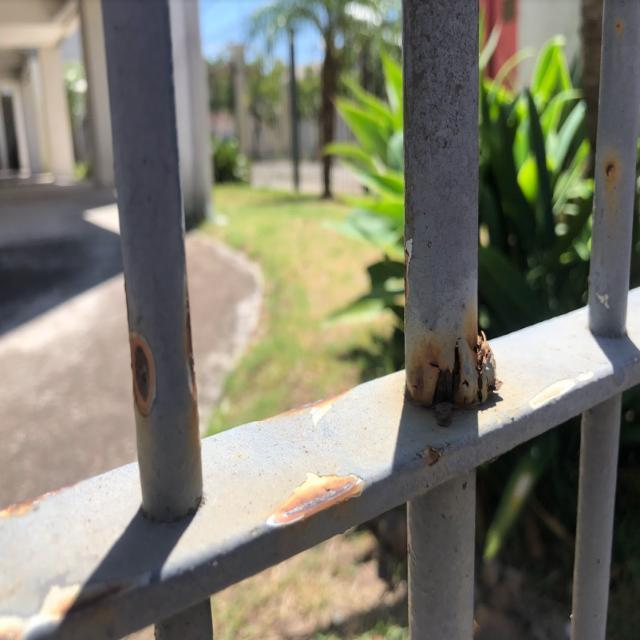Corrosion: (407, 313, 498, 421), (263, 475, 367, 526), (0, 481, 84, 520), (56, 587, 129, 626), (131, 336, 154, 414), (184, 303, 198, 406), (420, 441, 446, 470), (604, 161, 616, 183)
